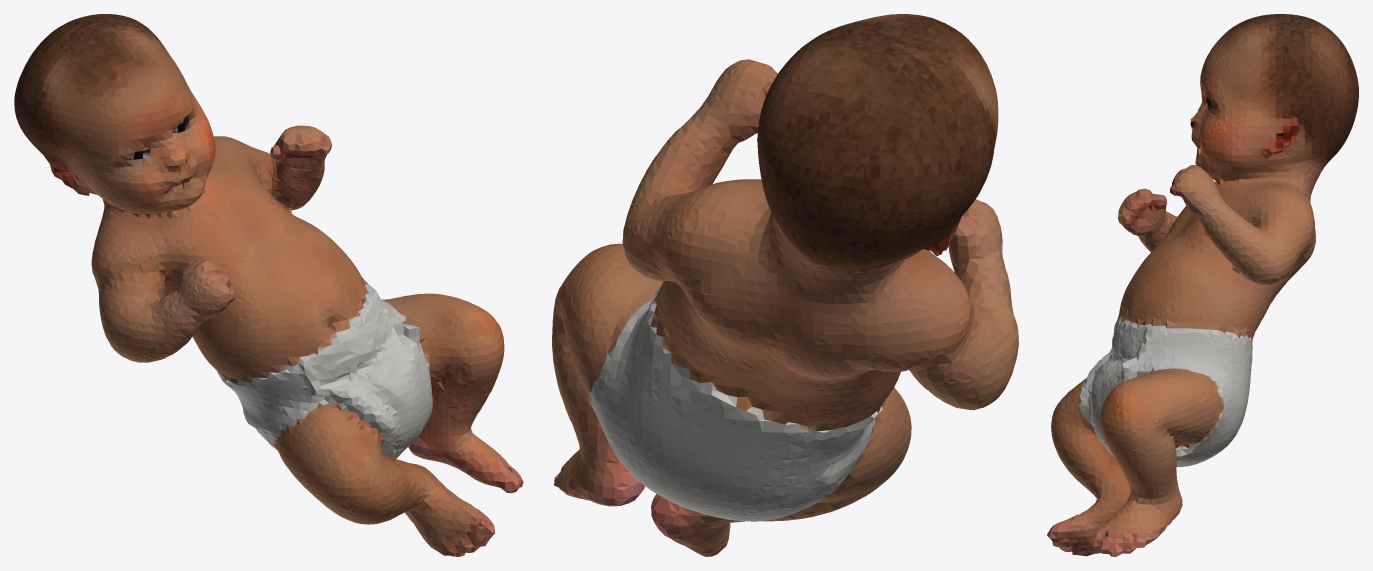
The model's file is baby.obj.
3 views of the same model, side by side, from view 1: azimuth 30°, elevation 25°; view 2: azimuth 150°, elevation 25°; view 3: azimuth 270°, elevation 25° (orthographic). The views are drawn at different scales.
Size of the model in its own units: 0.8134 by 0.9944 by 0.6449.
Materials: 1 (1 with a texture image).
